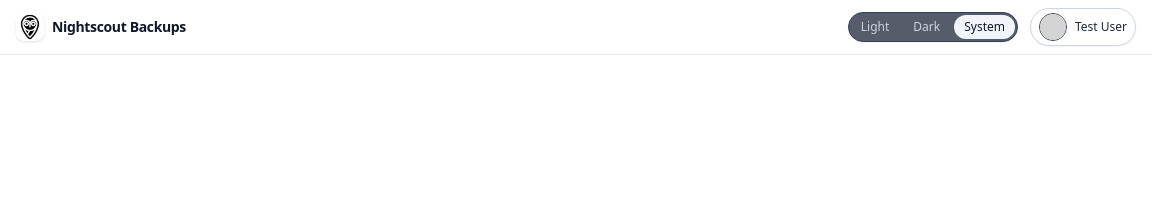
Test: TopBar › shows user info and sign out when authenticated
Expected: the text "Test User" is shown, [1075,19,1127,35]
Step 1. Click the button "Test User" → (1083, 27), box [1030,8,1136,46]
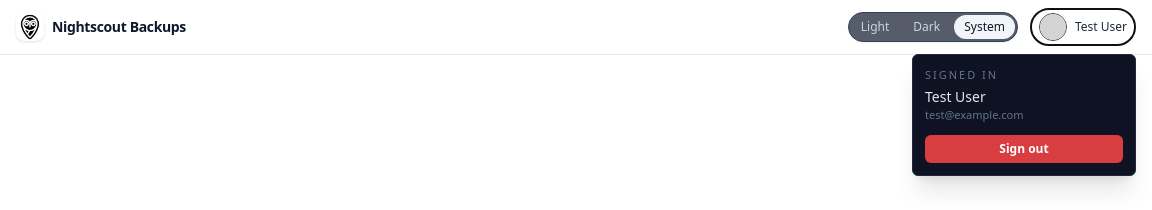
Expected: the button "Sign out" is shown, [925,135,1123,163]
